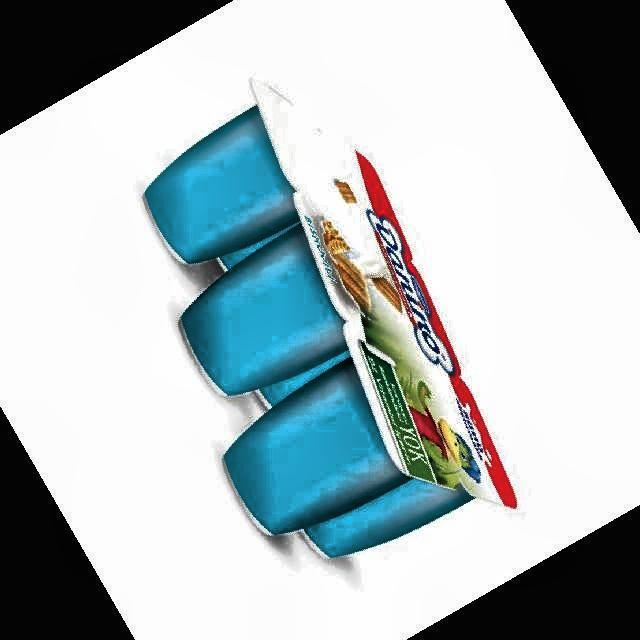plastic: (145, 85, 518, 556)
